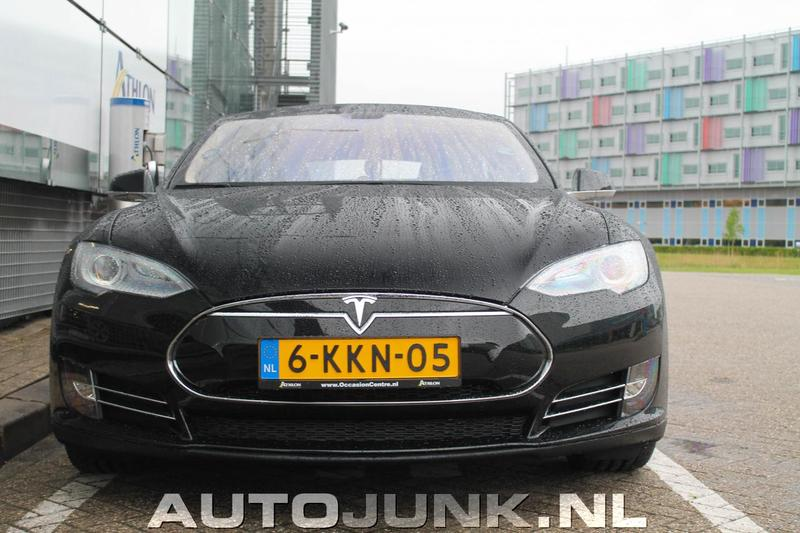kenteken: (258, 338, 462, 386)
